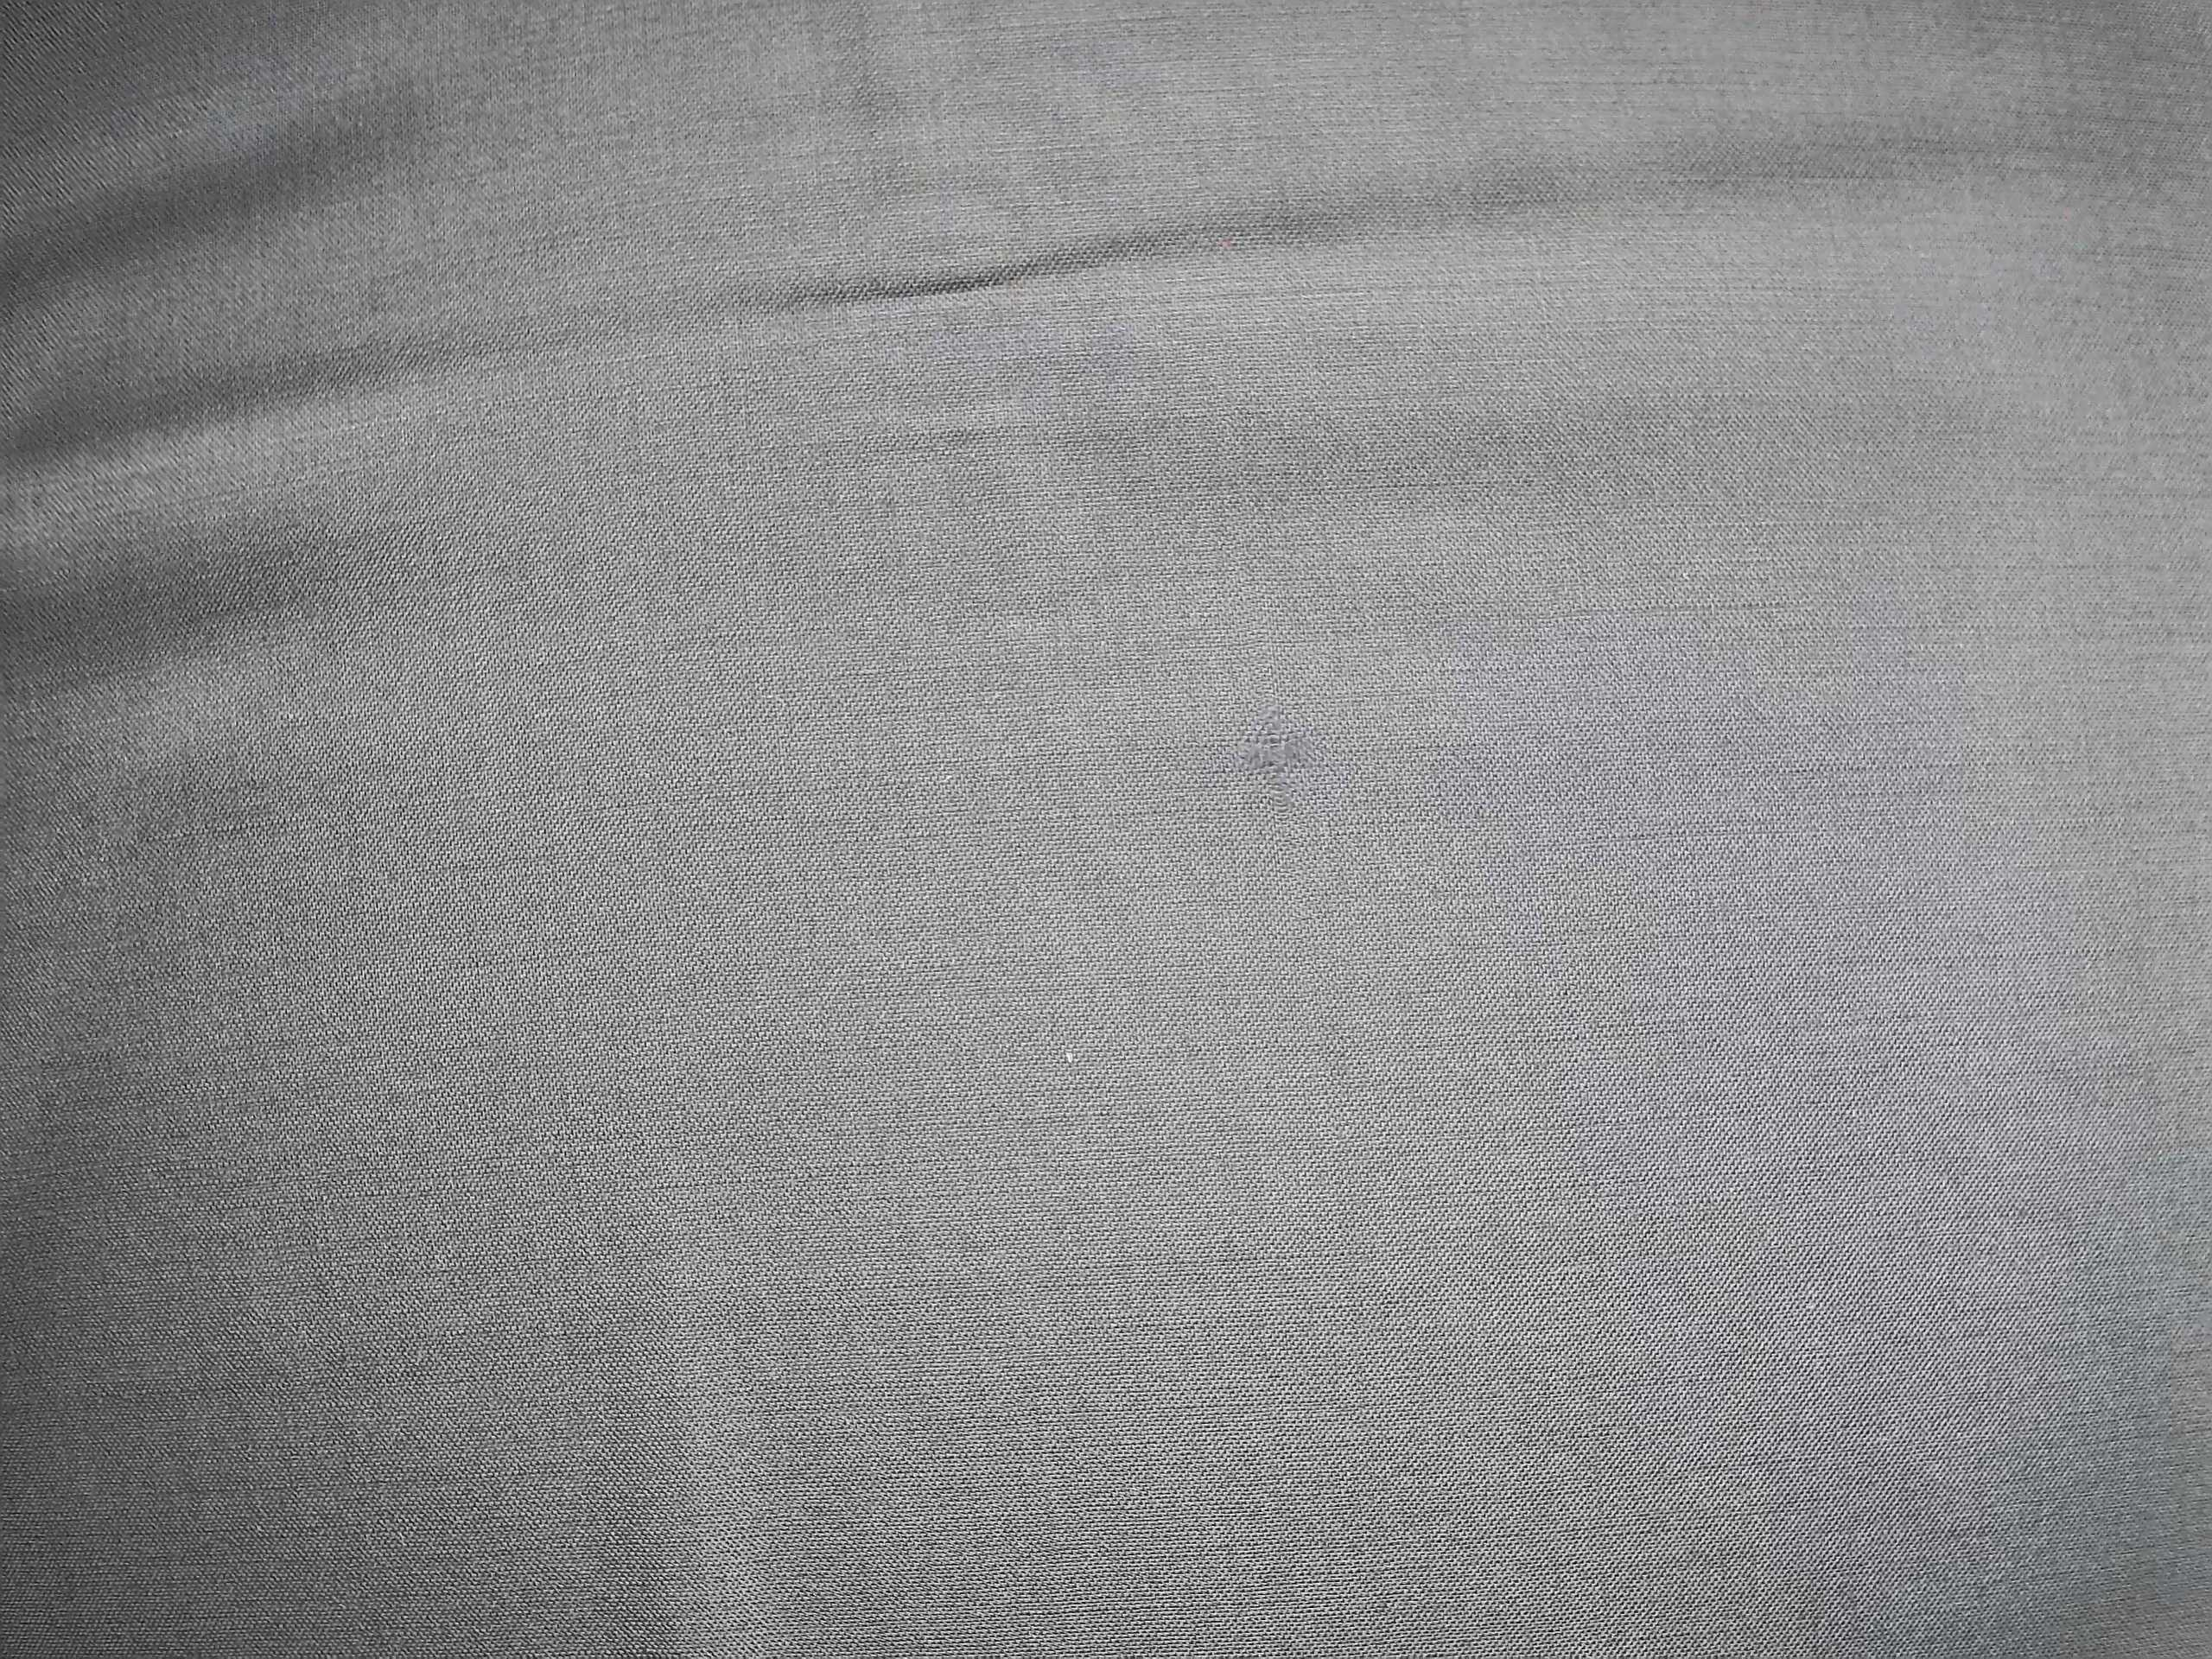brushed-hole: (1204, 676, 1357, 854)
